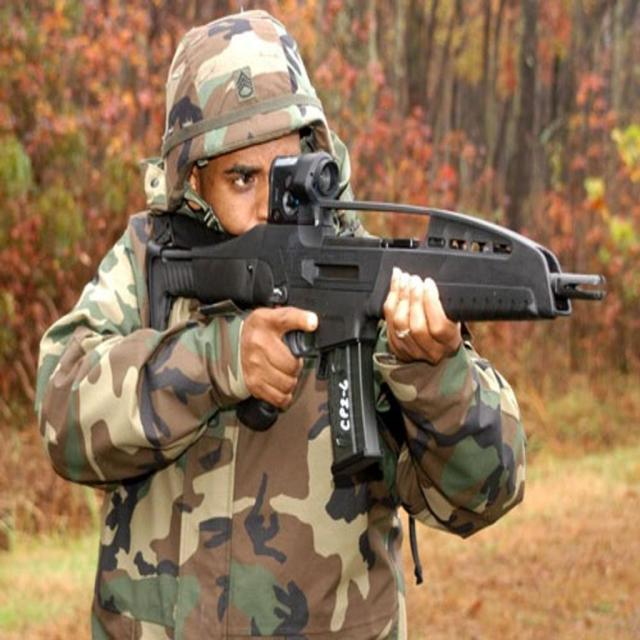Face: (198, 128, 306, 260)
